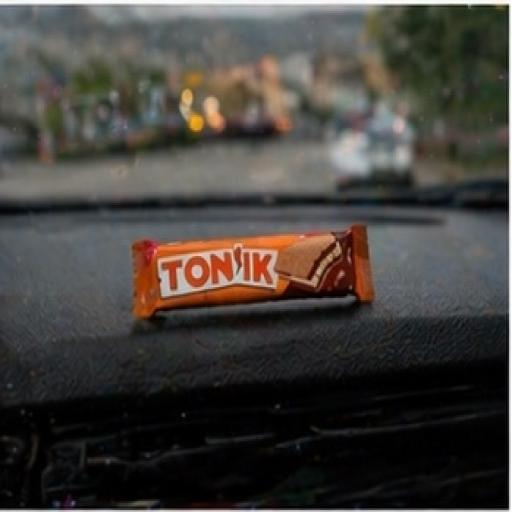tonik: (84, 149, 410, 425)
